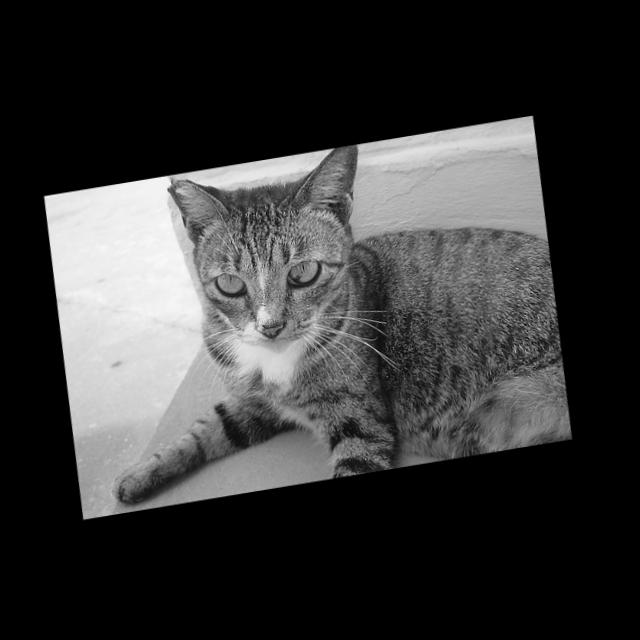animals: (168, 145, 383, 349)
